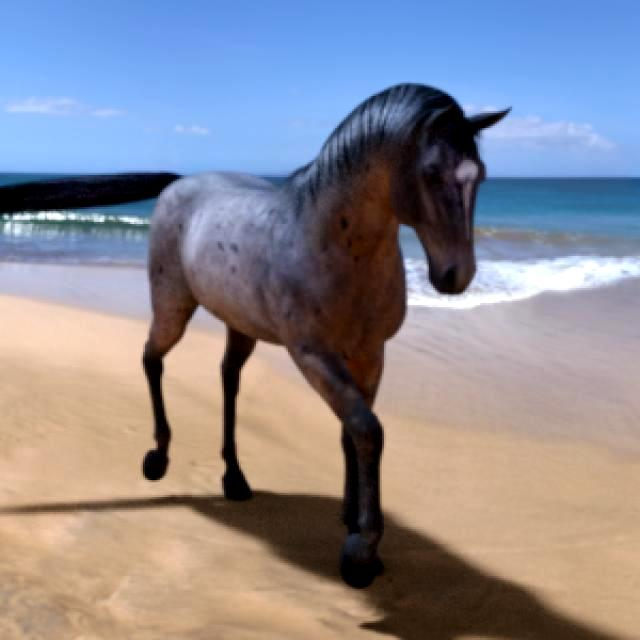horse: (0, 84, 509, 586)
